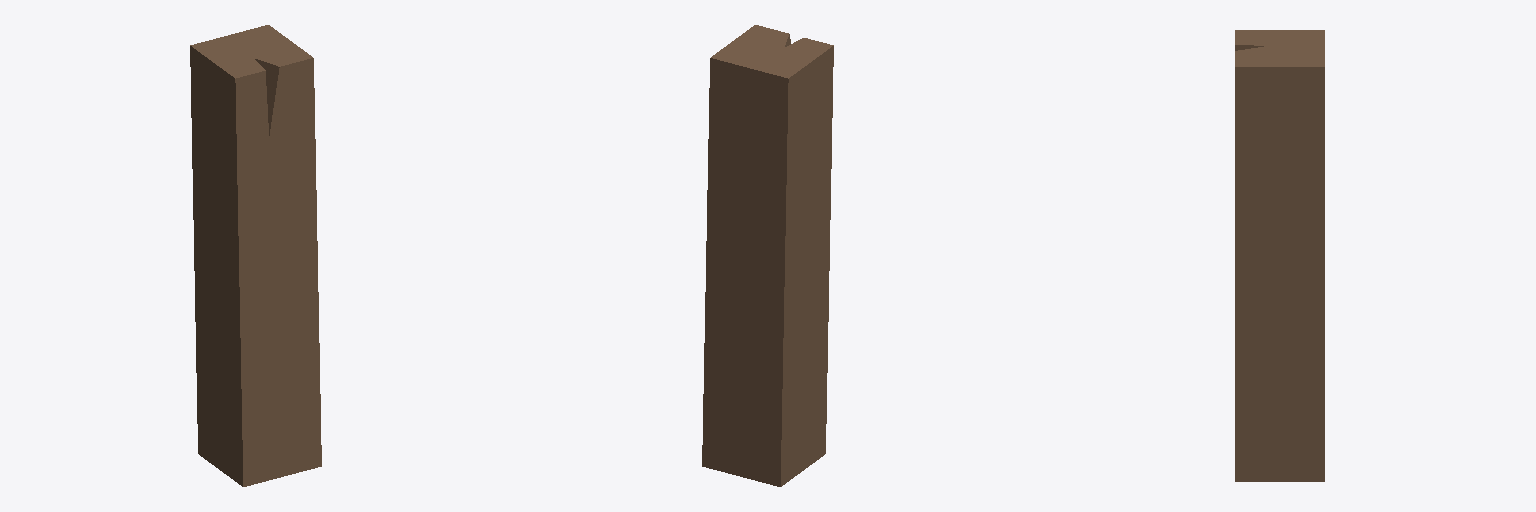
File: Hilly_Prop_Fence_Post_3.obj
The picture shows the model from 3 angles: view 1: azimuth 30°, elevation 25°; view 2: azimuth 150°, elevation 25°; view 3: azimuth 270°, elevation 25°; orthographic projection.
Visible parts, largest first — view 1: object1; view 2: object1; view 3: object1.
Boxes of the visible parts, x1=… form: object1: x1=190, y1=25, x2=321, y2=486; object1: x1=702, y1=25, x2=833, y2=486; object1: x1=1235, y1=30, x2=1324, y2=481.
Size of the model in its own units: 0.1653 by 0.7529 by 0.15.